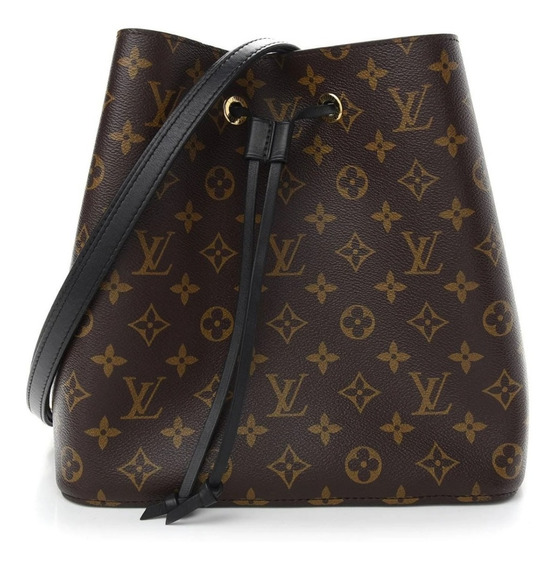cartera: (22, 27, 531, 509)
